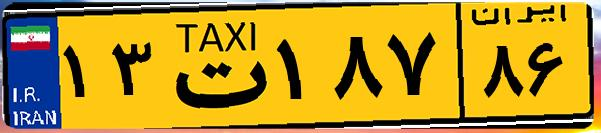1: (270, 28, 330, 110), (57, 26, 110, 100)
3: (110, 28, 158, 98)
6: (525, 38, 570, 115)
7: (385, 28, 445, 110)
8: (330, 28, 385, 110), (475, 38, 525, 113)
ت: (158, 12, 270, 120)
